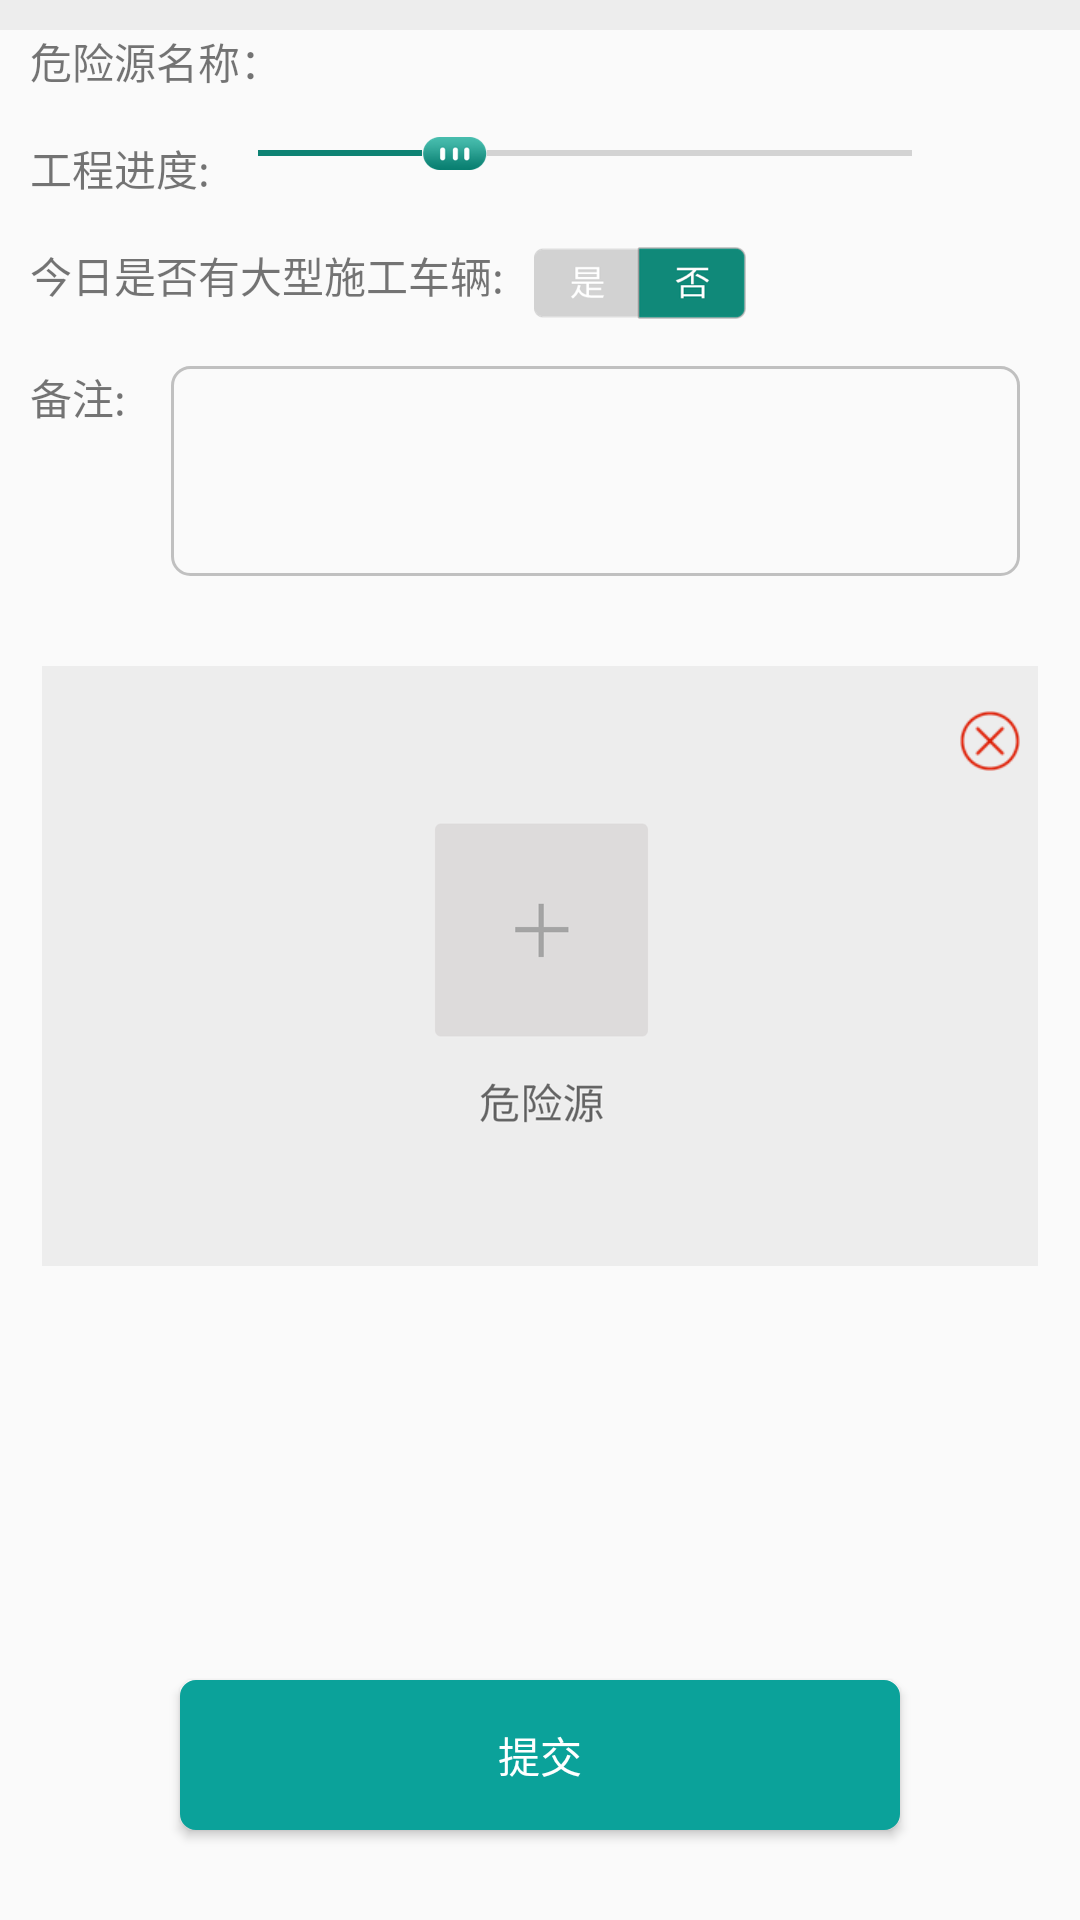

Named icons in this screenshot (1080 × 1920) and their centers, point (x, y):
close: point (990, 741)
